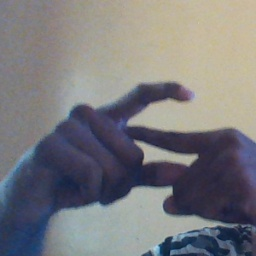E: (106, 78, 209, 195)
